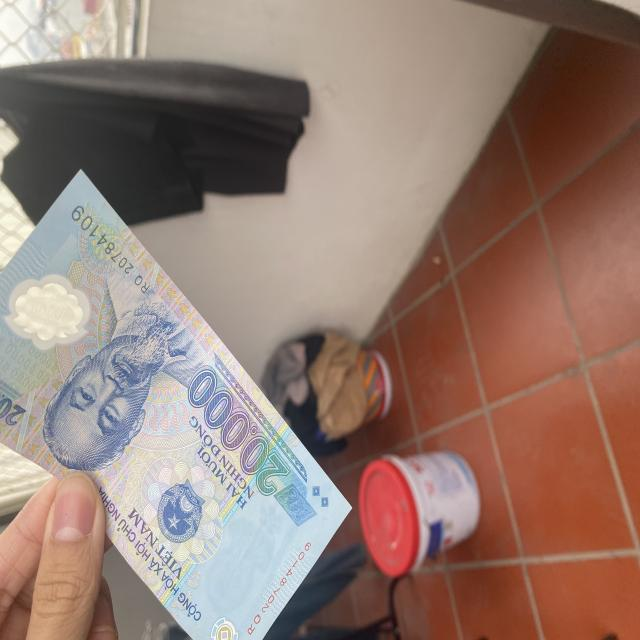20 000 VND: (0, 167, 353, 640)
